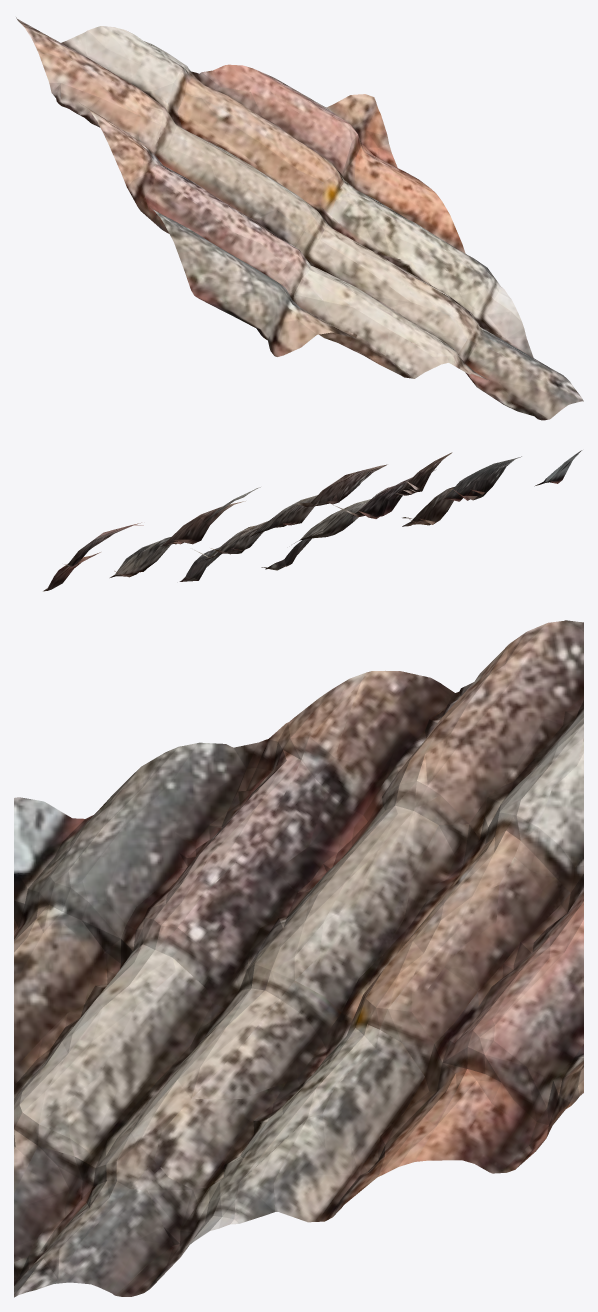
The picture shows the model from 3 angles, top to bottom: view 1: azimuth 30°, elevation 25°; view 2: azimuth 150°, elevation 25°; view 3: azimuth 270°, elevation 25°; orthographic projection. The views are drawn at different scales.
Size of the model in its own units: 0.8374 by 0.7289 by 0.8373.
3 materials, 3 textured.
